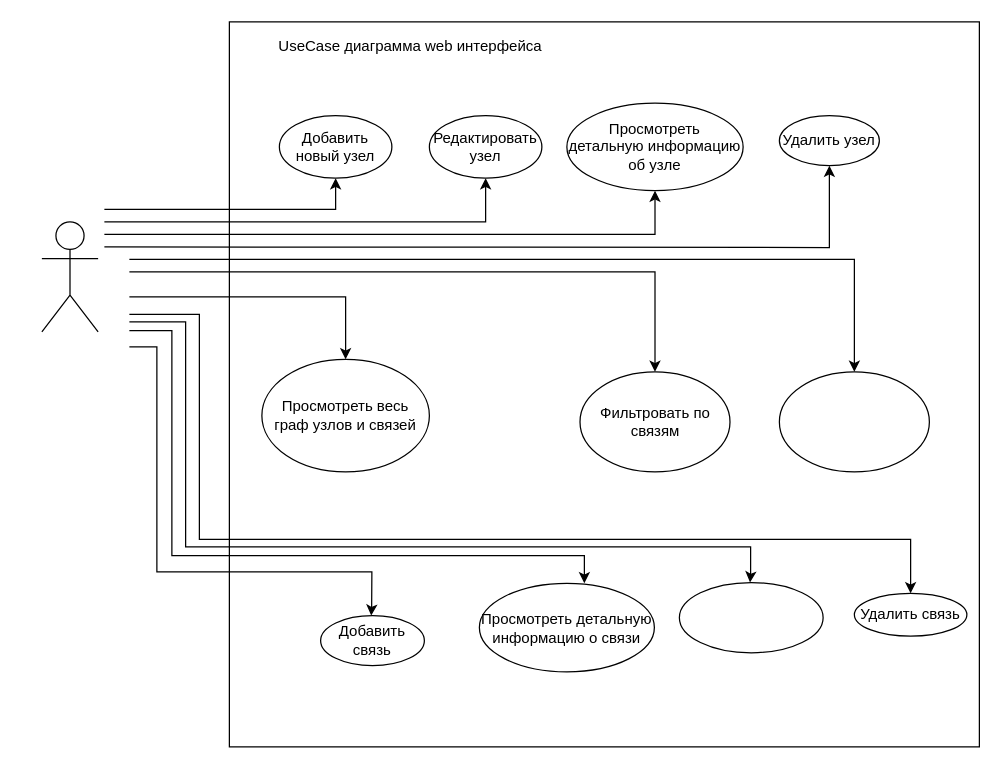
Some shapes in this 1001 by 769 pixel diagram are drawn without their labels. The shapes that lost their labels are listed below. From the top down, each one's centre as x and y in pixels, then its label:
At point (69, 276): "Пользователь".
At point (853, 421): "Фильтровать по узлам".
At point (750, 617): "Редактировать информацию о связи".
